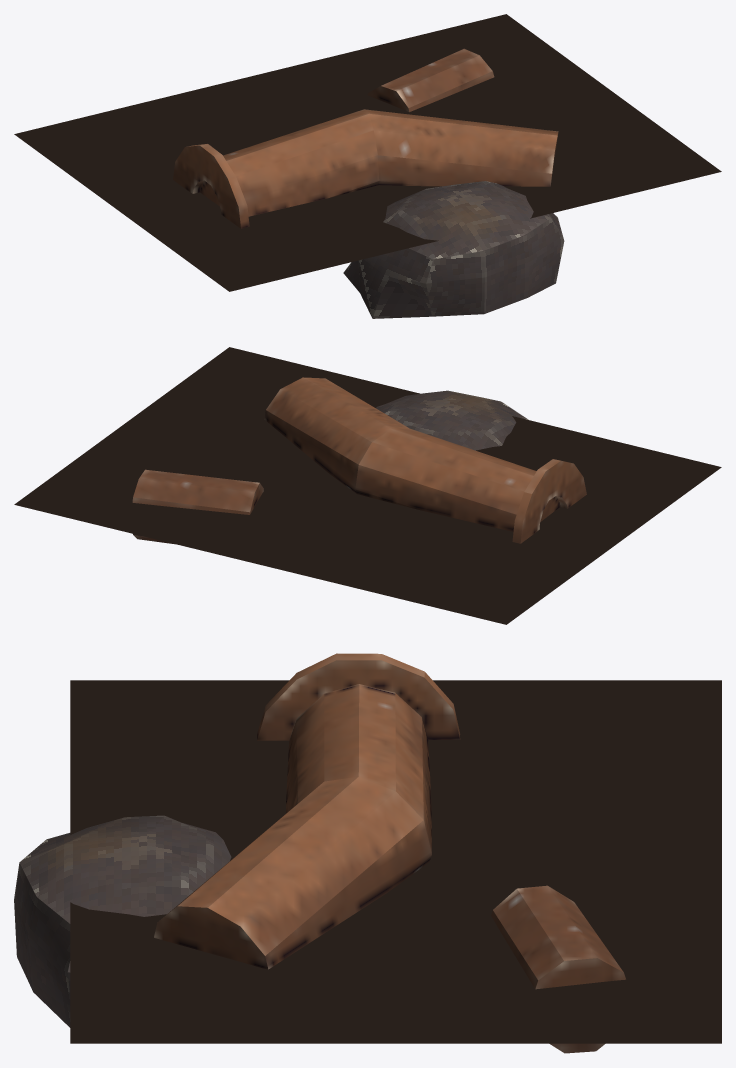
3 renders of one model, top to bottom at view 1: azimuth 30°, elevation 25°; view 2: azimuth 150°, elevation 25°; view 3: azimuth 270°, elevation 25°, orthographic. The views are drawn at different scales.
Visible parts, largest first — view 1: GroundShade, Pipe, PipeStone; view 2: GroundShade, Pipe, PipeStone; view 3: GroundShade, Pipe, PipeStone.
Part boxes in pixels (box(x1,y1,x2,y2)): GroundShade: box(14, 14, 721, 291); Pipe: box(173, 48, 558, 228); PipeStone: box(343, 181, 564, 318); GroundShade: box(14, 347, 721, 624); Pipe: box(132, 377, 586, 544); PipeStone: box(376, 390, 528, 450); GroundShade: box(70, 680, 721, 1043); Pipe: box(154, 653, 625, 1053); PipeStone: box(14, 815, 231, 1027).
Size of the model in its own units: 12.8 by 3.14 by 10.54.
Materials: 3 (3 with a texture image).
